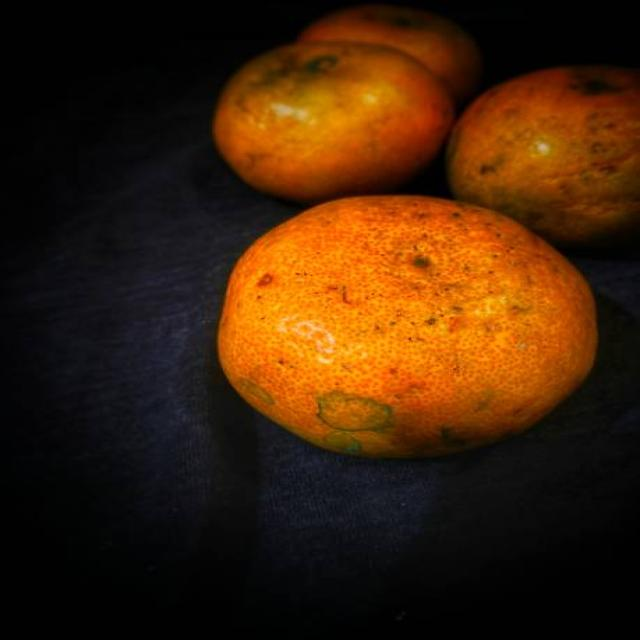overripe: (214, 194, 606, 464), (212, 33, 462, 190), (467, 63, 640, 216)
